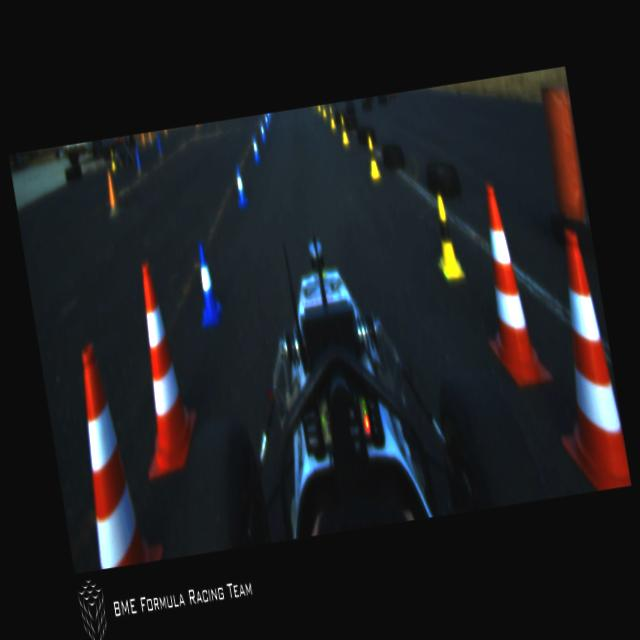blue_cone: (189, 239, 225, 327), (232, 164, 249, 210), (250, 134, 262, 162), (258, 122, 268, 144), (264, 114, 270, 130)
large_orange_cone: (529, 228, 631, 494), (66, 336, 164, 568), (116, 260, 206, 479), (465, 180, 555, 392)
unknown_cone: (101, 168, 122, 220), (132, 143, 146, 179), (156, 133, 164, 160)
yellow_cone: (426, 193, 467, 282), (363, 134, 382, 182), (338, 115, 351, 146), (328, 106, 337, 131), (321, 104, 328, 119)
